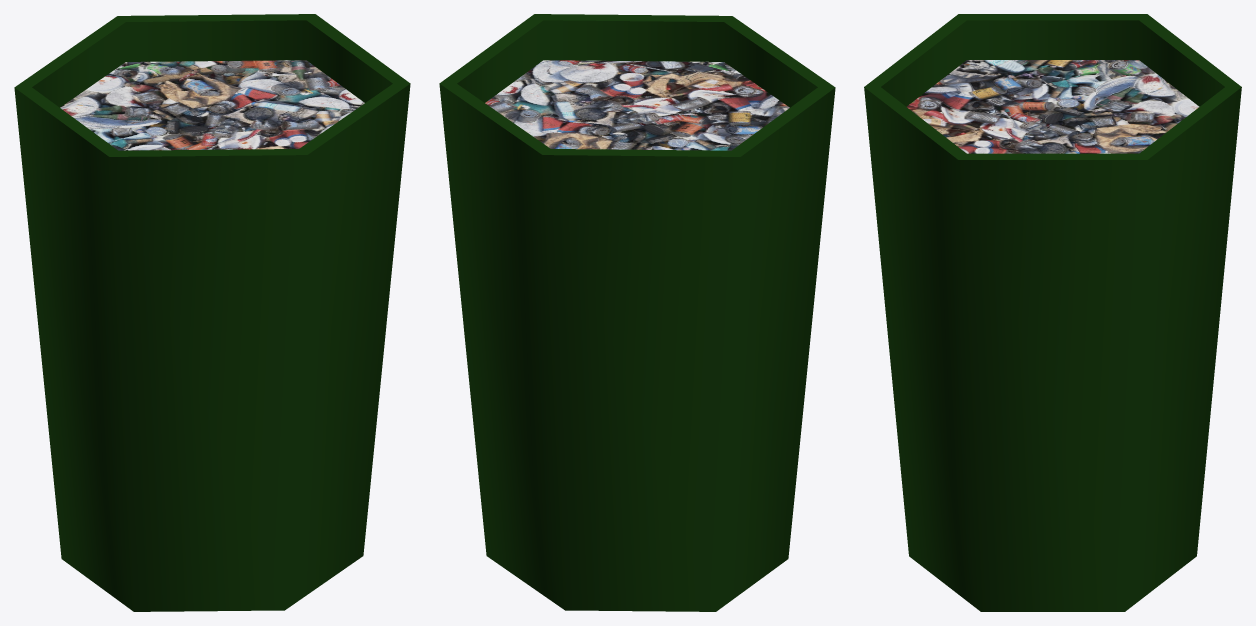
Rendered from trash_stolovka.fbx.
3 views of the same model, side by side, from view 1: azimuth 30°, elevation 25°; view 2: azimuth 150°, elevation 25°; view 3: azimuth 270°, elevation 25° (orthographic).
Visible parts, largest first — view 1: Cylinder; view 2: Cylinder; view 3: Cylinder.
Boxes of the visible parts, x1,y1,x2,y2 form: Cylinder: (14,14,410,611); Cylinder: (439,14,835,611); Cylinder: (864,14,1241,611).
Size of the model in its own units: 73.21 by 110 by 80.
Materials: 2 (1 with a texture image).
